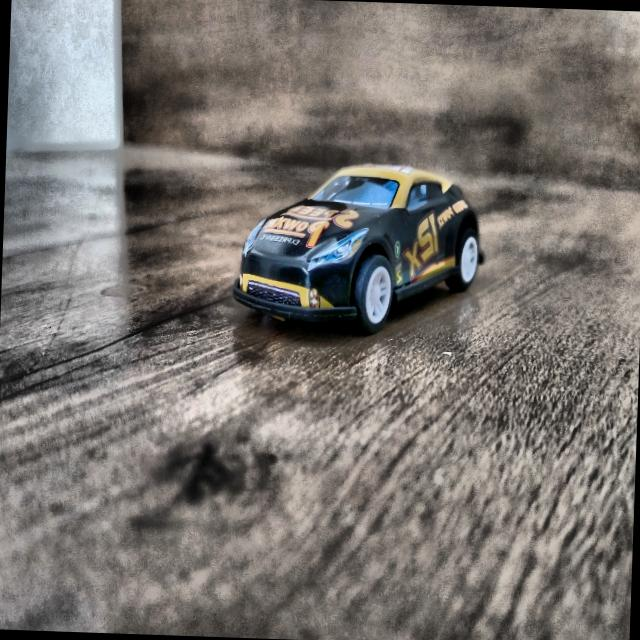Car: (230, 153, 489, 336)
